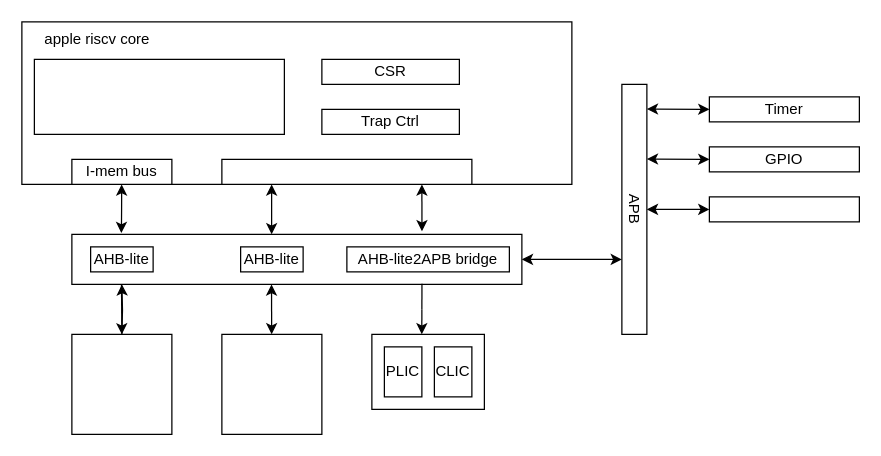
Image size: 881x456. Some labels were removed from this diagram. The shapes that lost their labels are listed below. From the top down, each one's box as (x1, y1, x2, y2) in pixels, then its label:
(33, 58, 284, 134): 5 Stage Pipeline
(221, 158, 472, 184): D-mem bus
(708, 196, 859, 222): Uart
(71, 333, 172, 434): Instruction ROM
(221, 333, 322, 434): Data RAM
